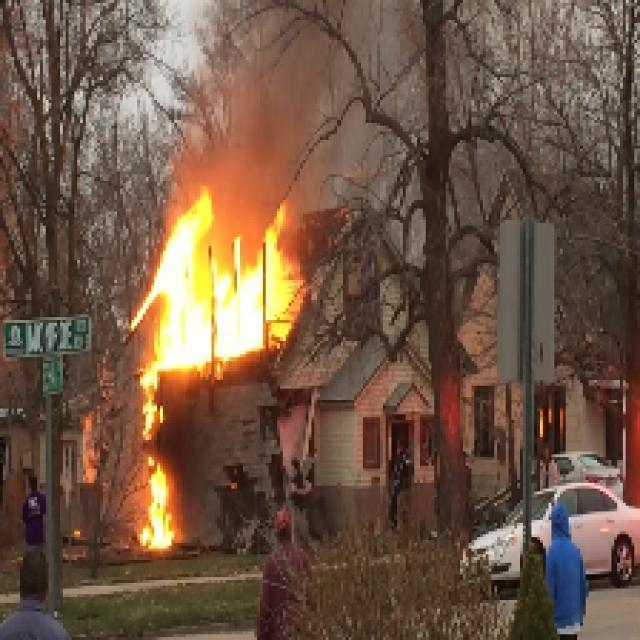Fire: (136, 216, 304, 375), (136, 383, 174, 548)
Smoke: (220, 54, 314, 200)
